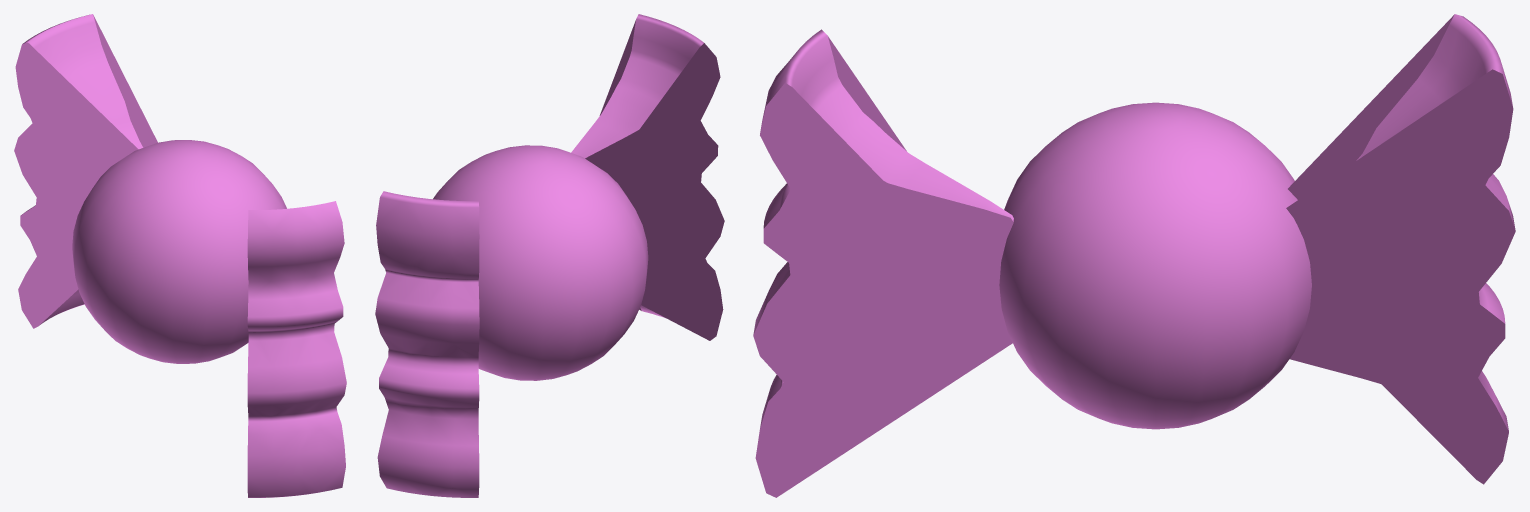
Rendered from CoughWrapperFBX 1.fbx.
3 renders of one model, left to right at view 1: azimuth 30°, elevation 25°; view 2: azimuth 150°, elevation 25°; view 3: azimuth 270°, elevation 25°, orthographic. The views are drawn at different scales.
Parts seen in each view (by area): view 1: pSphere1, revolvedSurface2, revolvedSurface3; view 2: pSphere1, revolvedSurface3, revolvedSurface2; view 3: pSphere1, revolvedSurface2, revolvedSurface3.
Part boxes in pixels (left/top/right/bottom): pSphere1: left=72, top=140, right=286, bottom=363; revolvedSurface2: left=247, top=201, right=346, bottom=497; revolvedSurface3: left=14, top=14, right=157, bottom=328; pSphere1: left=433, top=145, right=648, bottom=380; revolvedSurface3: left=375, top=191, right=479, bottom=497; revolvedSurface2: left=571, top=14, right=724, bottom=340; pSphere1: left=999, top=102, right=1311, bottom=429; revolvedSurface2: left=753, top=29, right=1013, bottom=497; revolvedSurface3: left=1286, top=14, right=1515, bottom=484.
Bounding box in the file's own units: 22.95 × 33.19 × 53.51.
